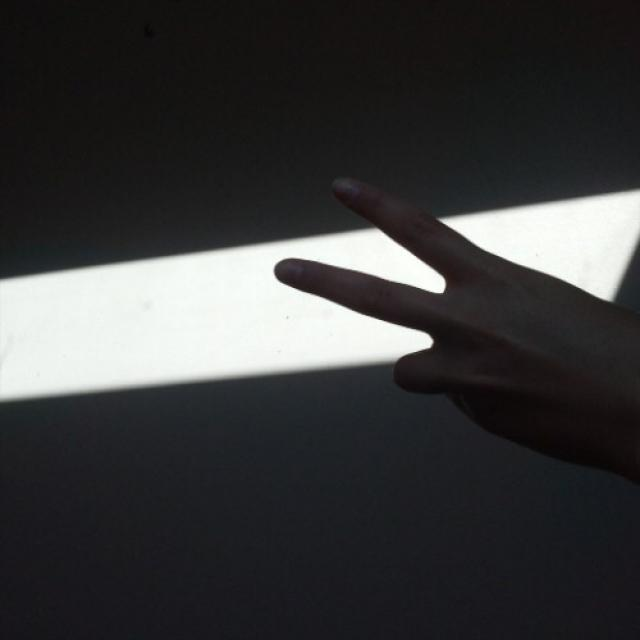scissors: (270, 168, 640, 486)
